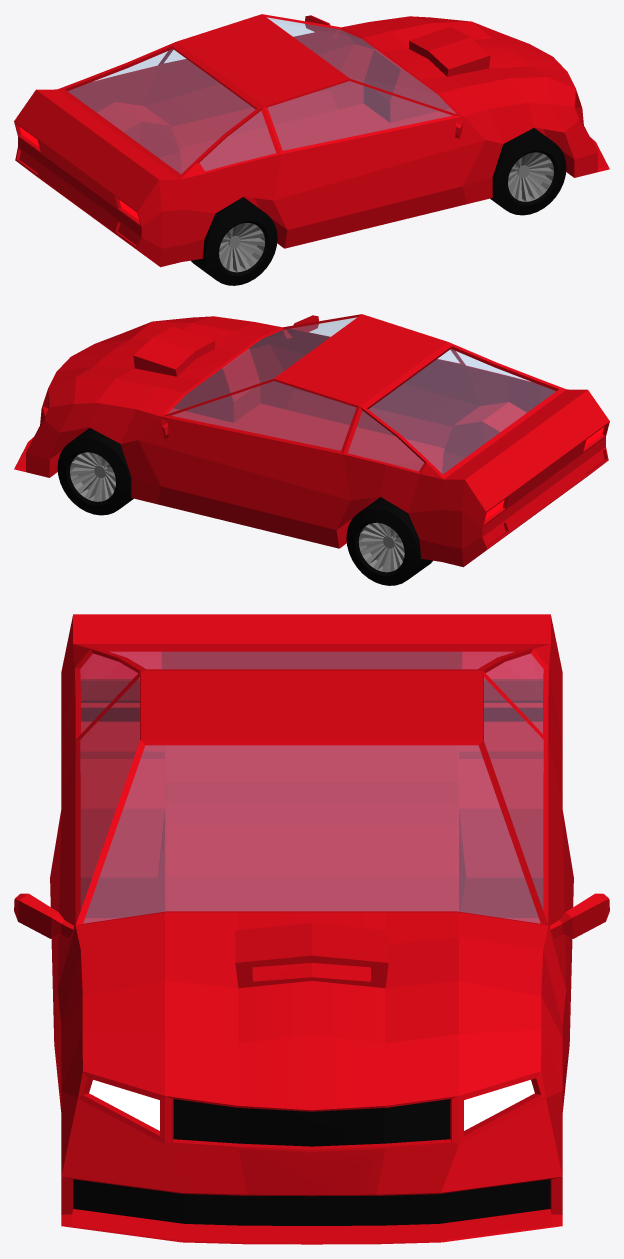
The model's file is adada.glb.
3 renders of one model, top to bottom at view 1: azimuth 30°, elevation 25°; view 2: azimuth 150°, elevation 25°; view 3: azimuth 270°, elevation 25°, orthographic. The views are drawn at different scales.
Visible parts, largest first — view 1: body, right rear, right front; view 2: body, left rear, left-front; view 3: body.
Part boxes in pixels (left/top/right/bottom): body: left=14, top=14, right=609, bottom=267; right rear: left=191, top=197, right=277, bottom=285; right front: left=490, top=128, right=566, bottom=215; body: left=14, top=314, right=609, bottom=567; left rear: left=346, top=497, right=432, bottom=585; left-front: left=57, top=428, right=133, bottom=515; body: left=14, top=614, right=609, bottom=1244.
Bounding box in the file's own units: 8.88 × 2.81 × 4.83.
